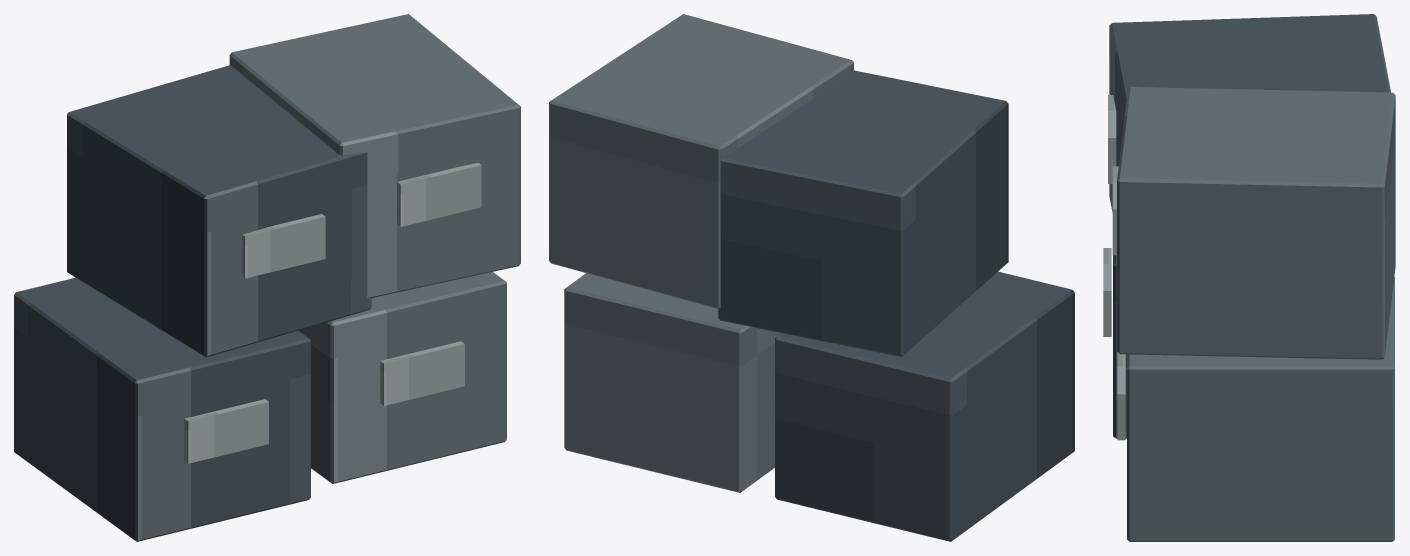
The model's file is office_file_boxes_charcoal.glb.
3 renders of one model, left to right at view 1: azimuth 30°, elevation 25°; view 2: azimuth 150°, elevation 25°; view 3: azimuth 270°, elevation 25°, orthographic. The views are drawn at different scales.
Parts seen in each view (by area): view 1: ArchiveBox_2, ArchiveBox_0, ArchiveBox_3, ArchiveBox_1, Label_0, Label_1, Label_3, Label_2; view 2: ArchiveBox_2, ArchiveBox_0, ArchiveBox_3, ArchiveBox_1; view 3: ArchiveBox_3, ArchiveBox_1, ArchiveBox_2, ArchiveBox_0, Label_0, Label_1, Label_2, Label_3.
Boxes of the visible parts, x1,y1,x2,y2 form: ArchiveBox_2: [67, 65, 371, 357]; ArchiveBox_0: [14, 277, 310, 541]; ArchiveBox_3: [229, 14, 520, 297]; ArchiveBox_1: [298, 272, 506, 483]; Label_0: [184, 399, 268, 463]; Label_1: [380, 341, 464, 405]; Label_3: [397, 162, 481, 226]; Label_2: [242, 214, 325, 278]; ArchiveBox_2: [718, 70, 1008, 356]; ArchiveBox_0: [775, 271, 1074, 541]; ArchiveBox_3: [549, 14, 853, 309]; ArchiveBox_1: [564, 273, 781, 492]; ArchiveBox_3: [1117, 87, 1395, 359]; ArchiveBox_1: [1127, 277, 1394, 541]; ArchiveBox_2: [1109, 14, 1390, 211]; ArchiveBox_0: [1113, 255, 1126, 438]; Label_0: [1103, 248, 1111, 336]; Label_1: [1117, 352, 1125, 440]; Label_2: [1108, 95, 1116, 183]; Label_3: [1112, 166, 1118, 255].
Bounding box in the file's own units: 1.08 × 0.89 × 0.6323.
Materials: 1 (1 with a texture image).
